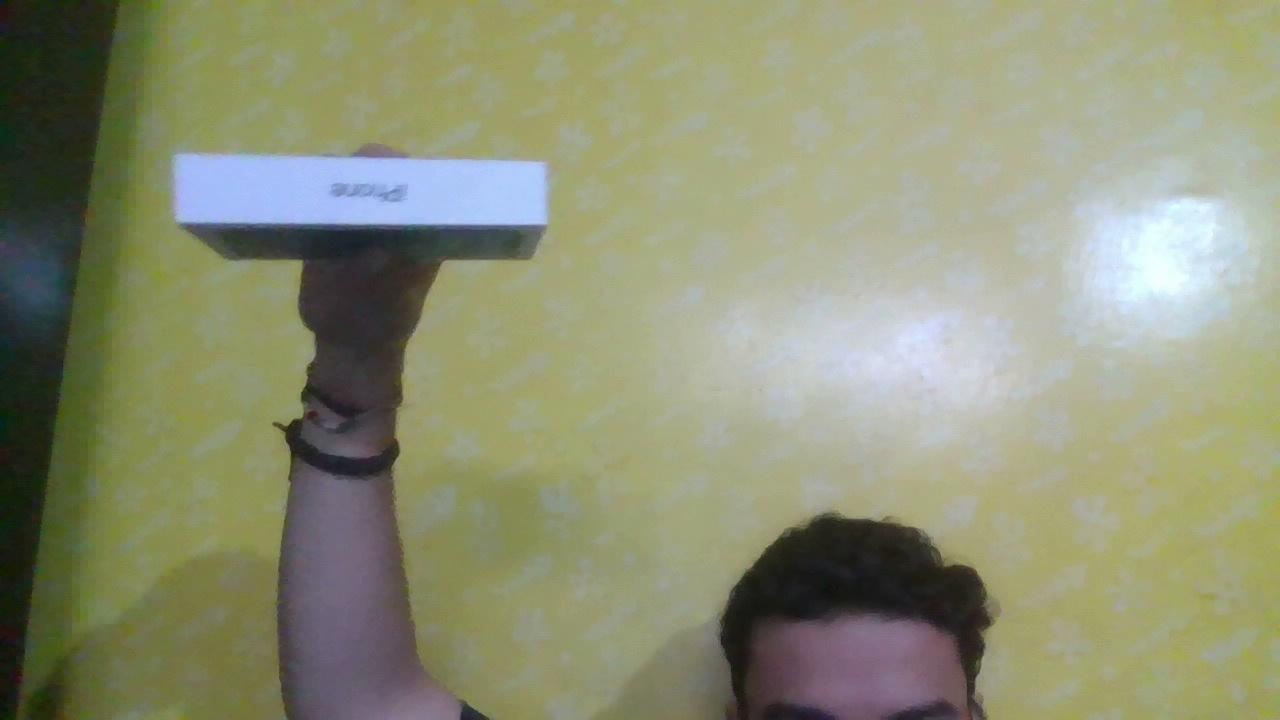Phone: (163, 145, 576, 286)
